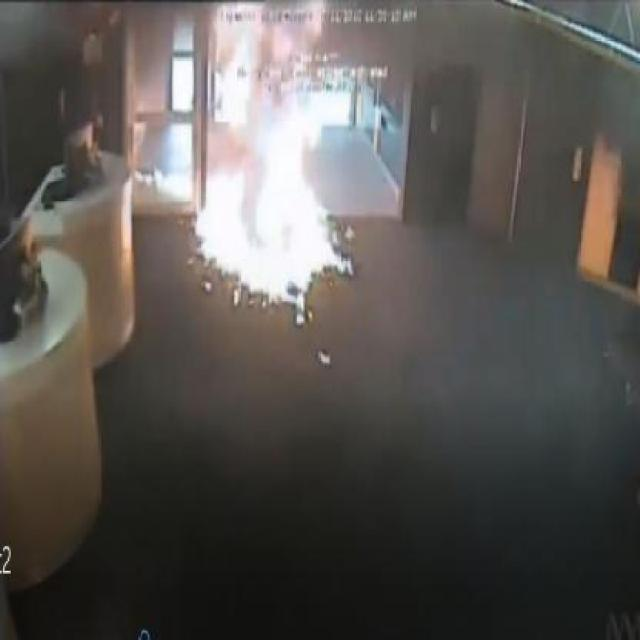Fire: (193, 3, 352, 306), (158, 172, 196, 198), (294, 313, 308, 329)
